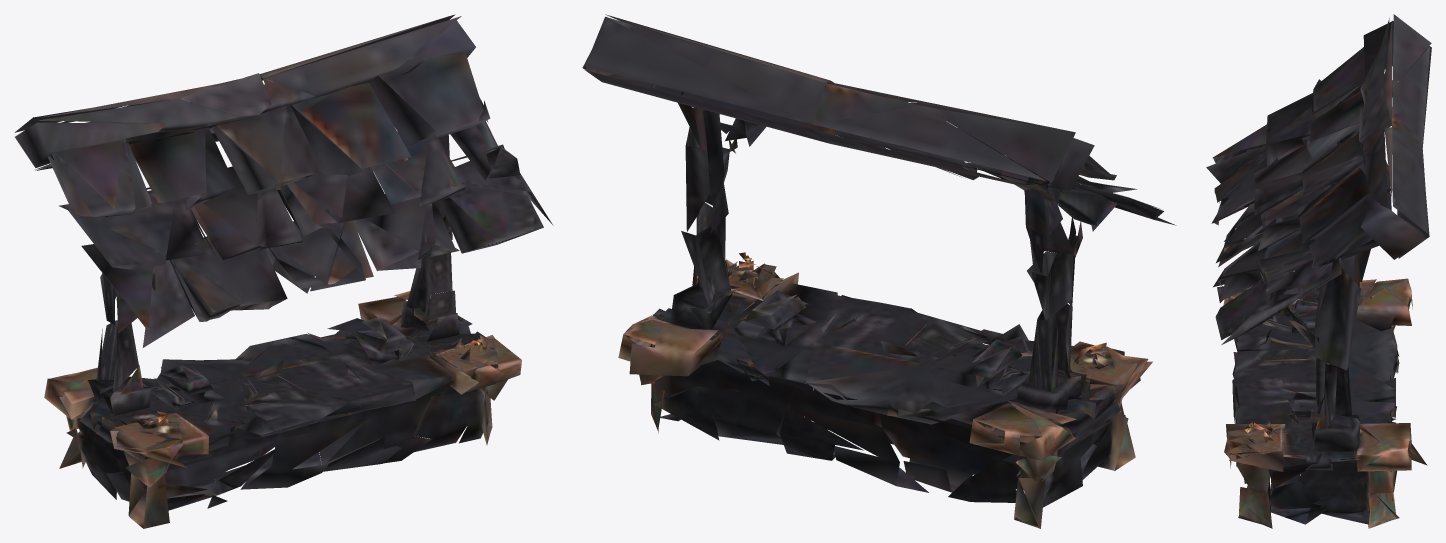
Rendered from k-etal-semis.glb.
The picture shows the model from 3 angles, left to right: view 1: azimuth 30°, elevation 25°; view 2: azimuth 150°, elevation 25°; view 3: azimuth 270°, elevation 25°; orthographic projection. The views are drawn at different scales.
Visible parts, largest first — view 1: k-etal-semis; view 2: k-etal-semis; view 3: k-etal-semis.
Part boxes in pixels (x1,y1,x2,y2): k-etal-semis: [15, 14, 553, 528]; k-etal-semis: [582, 14, 1176, 528]; k-etal-semis: [1206, 14, 1431, 528].
Bounding box in the file's own units: 0.9505 × 0.7704 × 0.4637.
1 material, 1 textured.
